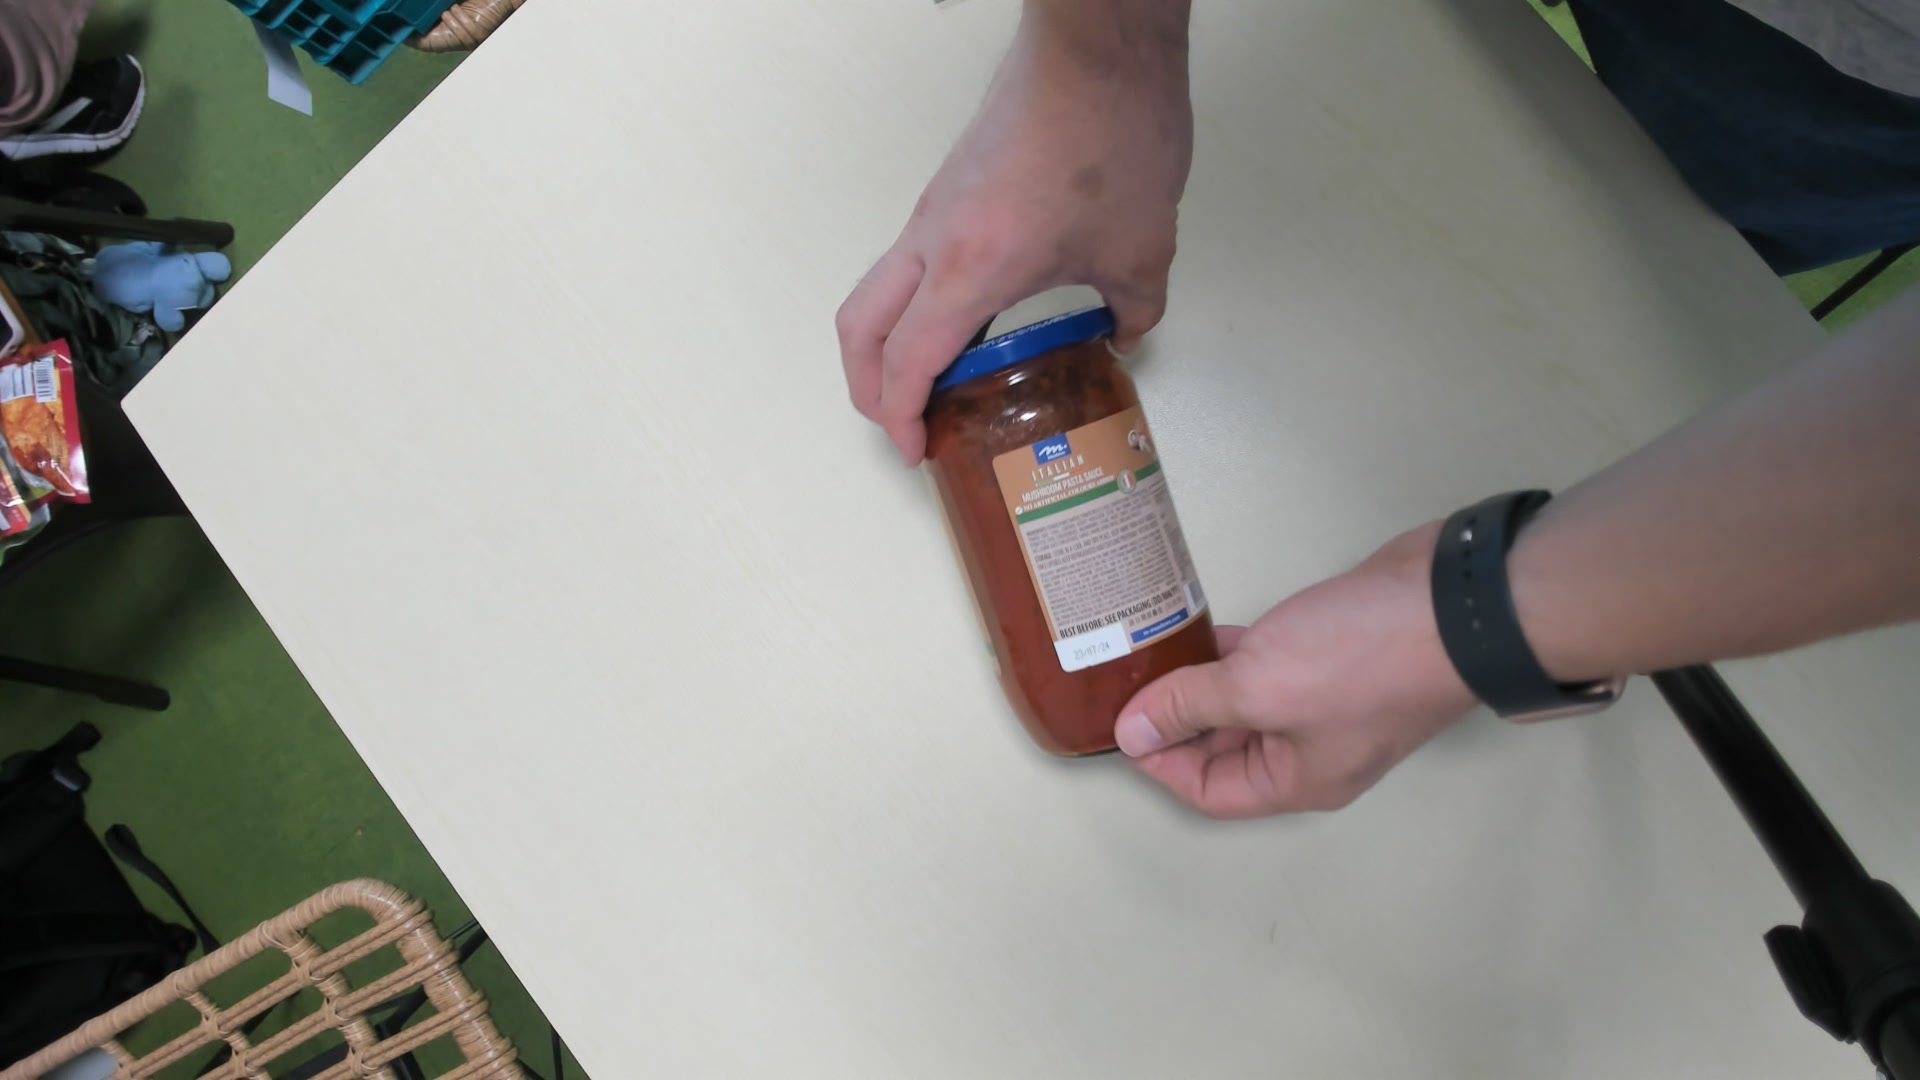PastaSauce_600-699g_Halal_NonHealthy: (924, 301, 1225, 764)
